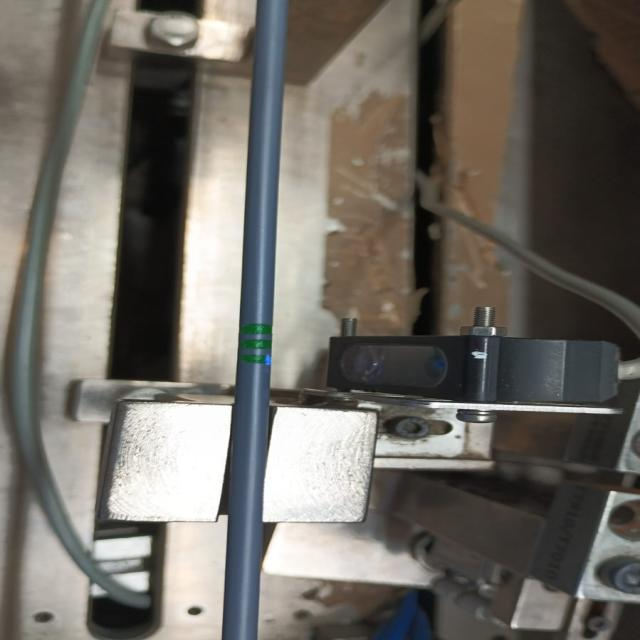green: (238, 322, 272, 365)
